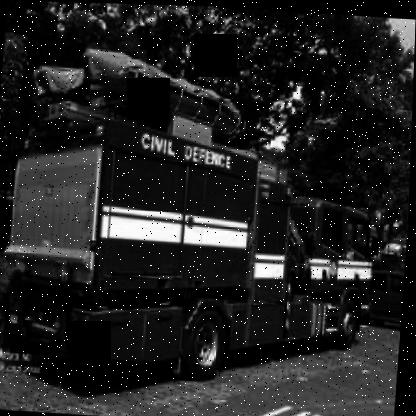emergency: (3, 43, 401, 415)
